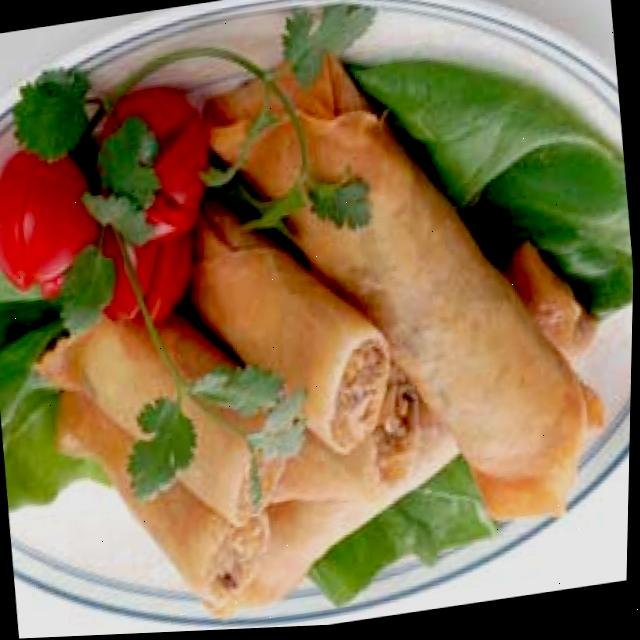鸡蛋料理: (2, 41, 623, 640)
